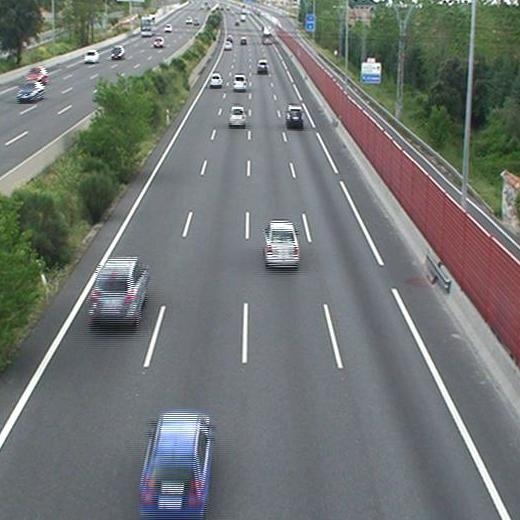car: (141, 417, 210, 512), (90, 261, 146, 324), (263, 221, 297, 268), (285, 106, 303, 127), (229, 107, 245, 127), (233, 75, 246, 90), (209, 72, 221, 87), (256, 60, 268, 74), (224, 42, 232, 50)
